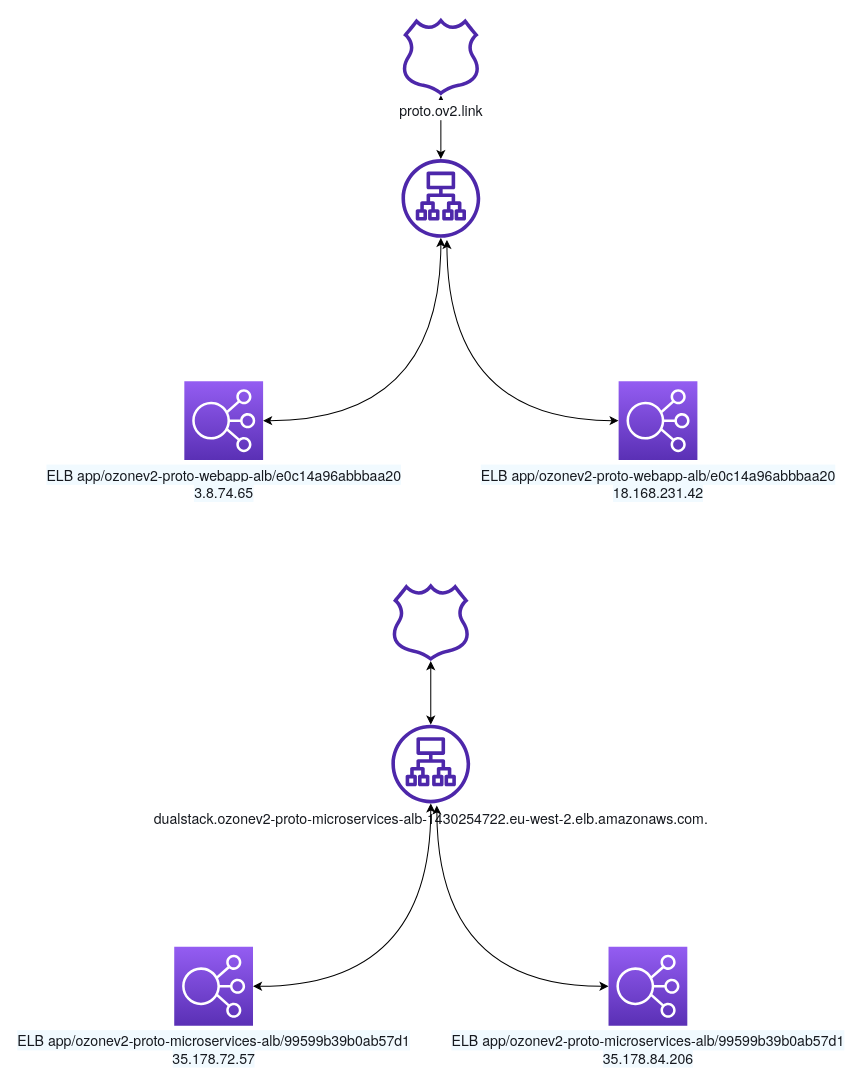
Image size: 862x1085. Some labels were removed from this diagram. The box of each missing label's shape, as (x1, y1, x2, y2) in pixels:
api.proto.ov2.link: (391, 583, 470, 661)
dualstack.ozonev2-proto-webapp-alb-1287598946.eu-west-2.elb.amazonaws.com: (401, 159, 480, 237)
